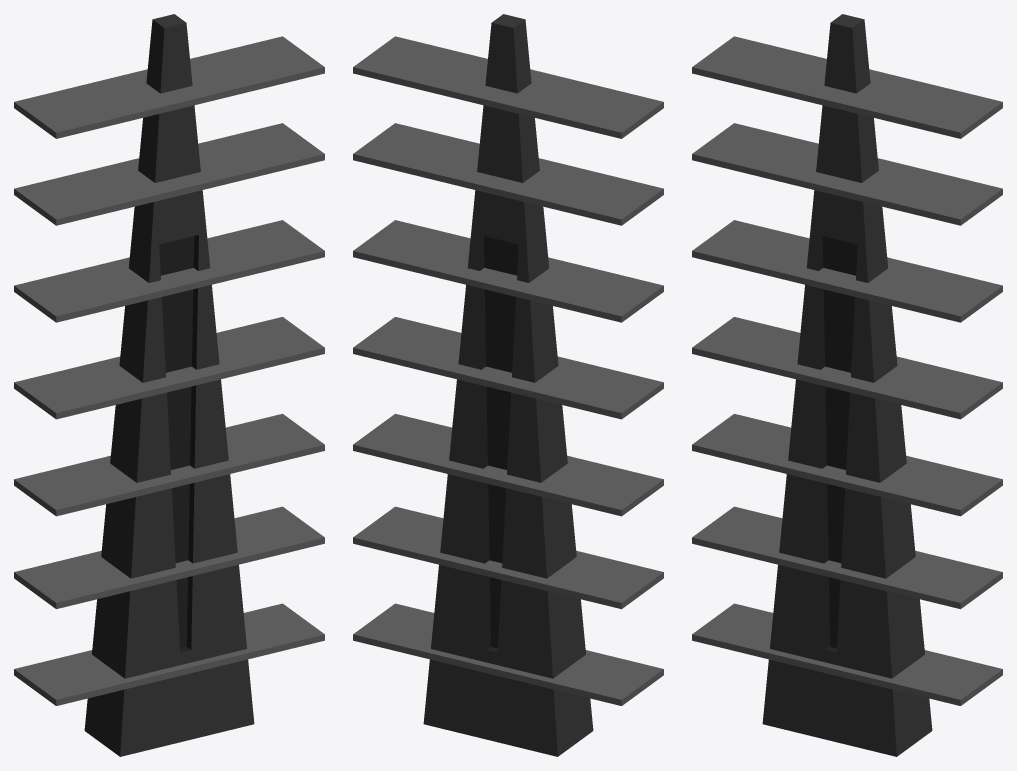
Rendered from shelf_E.FBX.
3 views of the same model, side by side, from view 1: azimuth 30°, elevation 25°; view 2: azimuth 150°, elevation 25°; view 3: azimuth 330°, elevation 25° (orthographic).
Visible parts, largest first — view 1: shelf_E; view 2: shelf_E; view 3: shelf_E.
Boxes of the visible parts, box(x1,y1,x2,y2) form: shelf_E: box(14, 14, 324, 756); shelf_E: box(353, 14, 663, 756); shelf_E: box(692, 14, 1002, 756).
Bounding box in the file's own units: 41.09 × 103 × 11.19.
